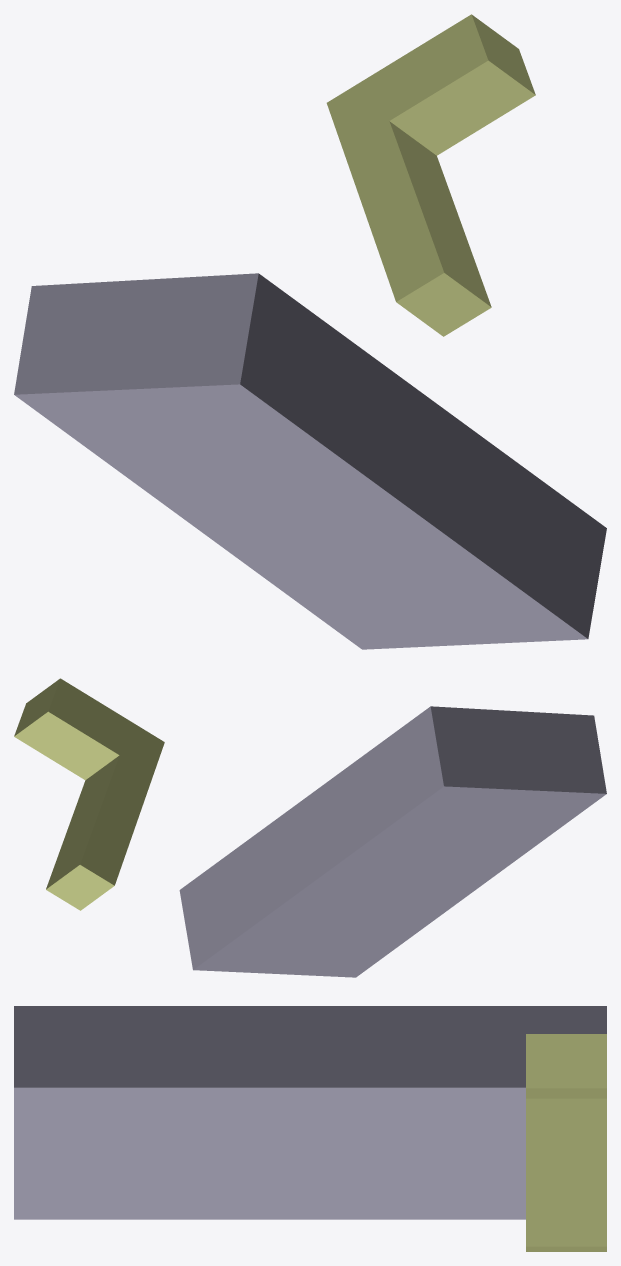
The picture shows the model from 3 angles, top to bottom: view 1: azimuth 30°, elevation 25°; view 2: azimuth 150°, elevation 25°; view 3: azimuth 270°, elevation 25°; orthographic projection. The views are drawn at different scales.
Parts seen in each view (by area): view 1: 0_3_1_3_3_0_2_0; view 2: 0_3_1_3_3_0_2_0; view 3: 0_3_1_3_3_0_2_0.
Boxes of the visible parts, bbox=[...] form: 0_3_1_3_3_0_2_0: bbox=[14, 14, 606, 649]; 0_3_1_3_3_0_2_0: bbox=[14, 678, 606, 977]; 0_3_1_3_3_0_2_0: bbox=[14, 1006, 606, 1251].
Bounding box in the file's own units: 51.91 × 32.79 × 66.
